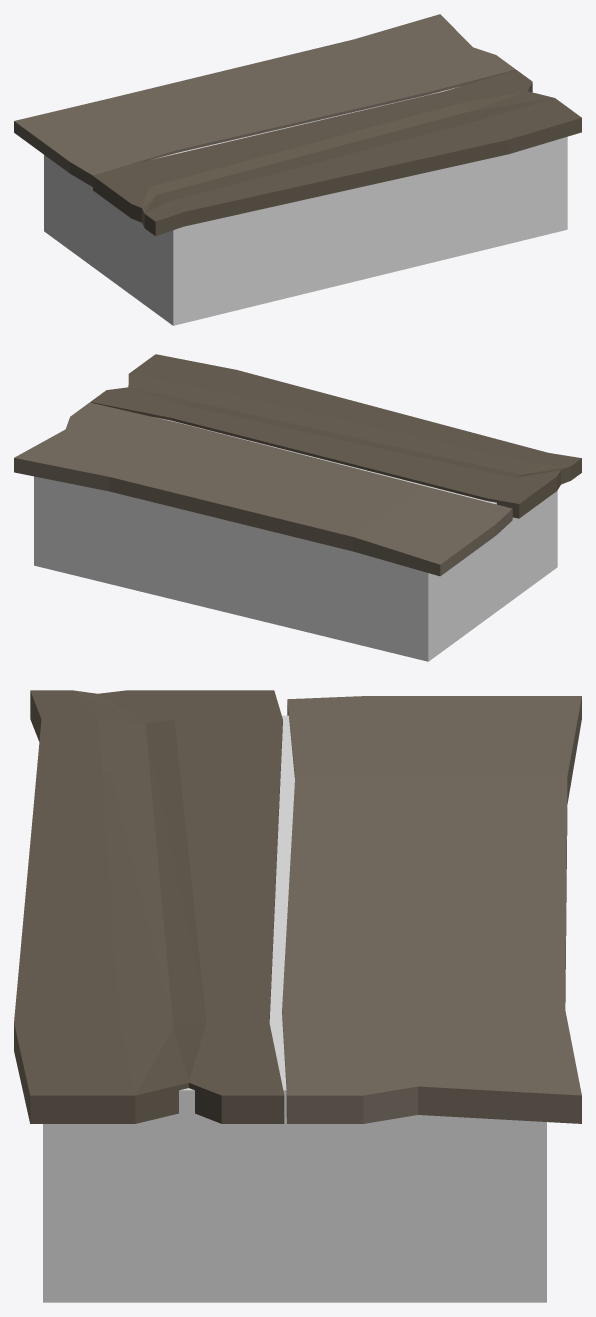
The model's file is table_wood.glb.
3 renders of one model, top to bottom at view 1: azimuth 30°, elevation 25°; view 2: azimuth 150°, elevation 25°; view 3: azimuth 270°, elevation 25°, orthographic. The views are drawn at different scales.
Parts seen in each view (by area): view 1: table, Cube; view 2: table, Cube; view 3: table, Cube.
Part boxes in pixels (x1,y1,x2,y2): table: (14,14,581,236); Cube: (44,87,567,325); table: (14,354,581,576); Cube: (34,417,557,661); table: (14,690,581,1123); Cube: (43,715,546,1302).
Size of the model in its own units: 2.56 by 0.6403 by 1.52.
Materials: 1 (1 with a texture image).
